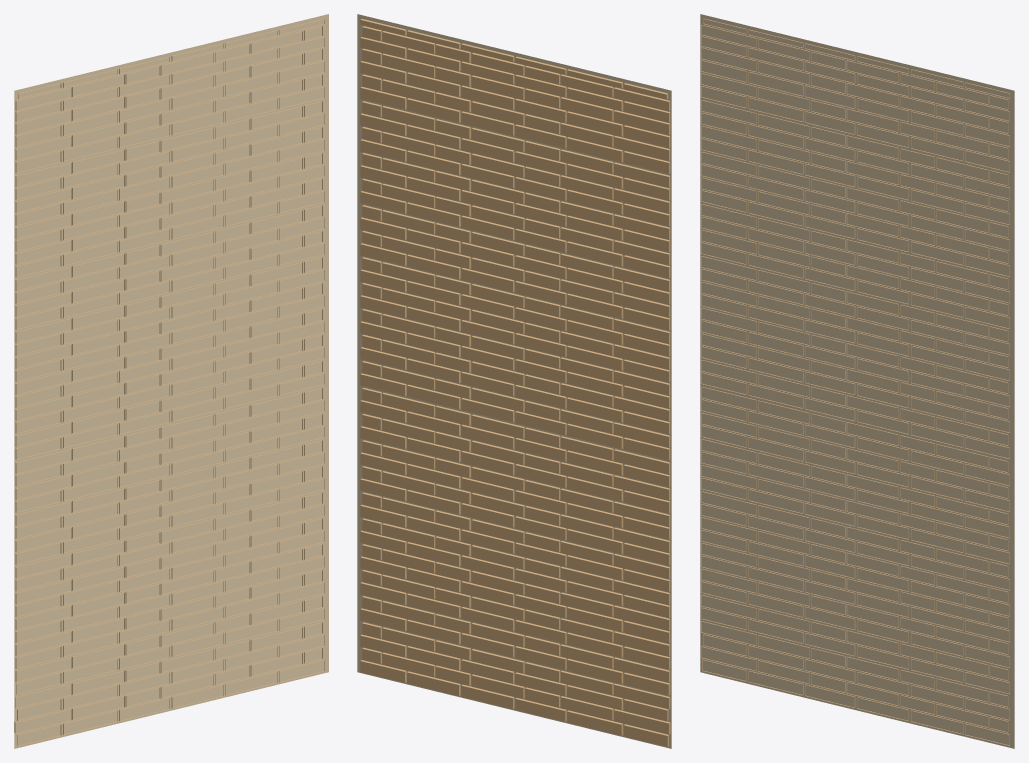
File: BaksteenMuur01_LOD0.fbx
3 views of the same model, side by side, from view 1: azimuth 30°, elevation 25°; view 2: azimuth 150°, elevation 25°; view 3: azimuth 330°, elevation 25° (orthographic).
Visible parts, largest first — view 1: BaksteenMuur01_LOD0; view 2: BaksteenMuur01_LOD0; view 3: BaksteenMuur01_LOD0.
Part boxes in pixels (box(x1,y1,x2,y2)): BaksteenMuur01_LOD0: box(14, 14, 328, 748); BaksteenMuur01_LOD0: box(357, 14, 671, 748); BaksteenMuur01_LOD0: box(700, 14, 1014, 748).
Bounding box in the file's own units: 4 × 8 × 0.0422.
